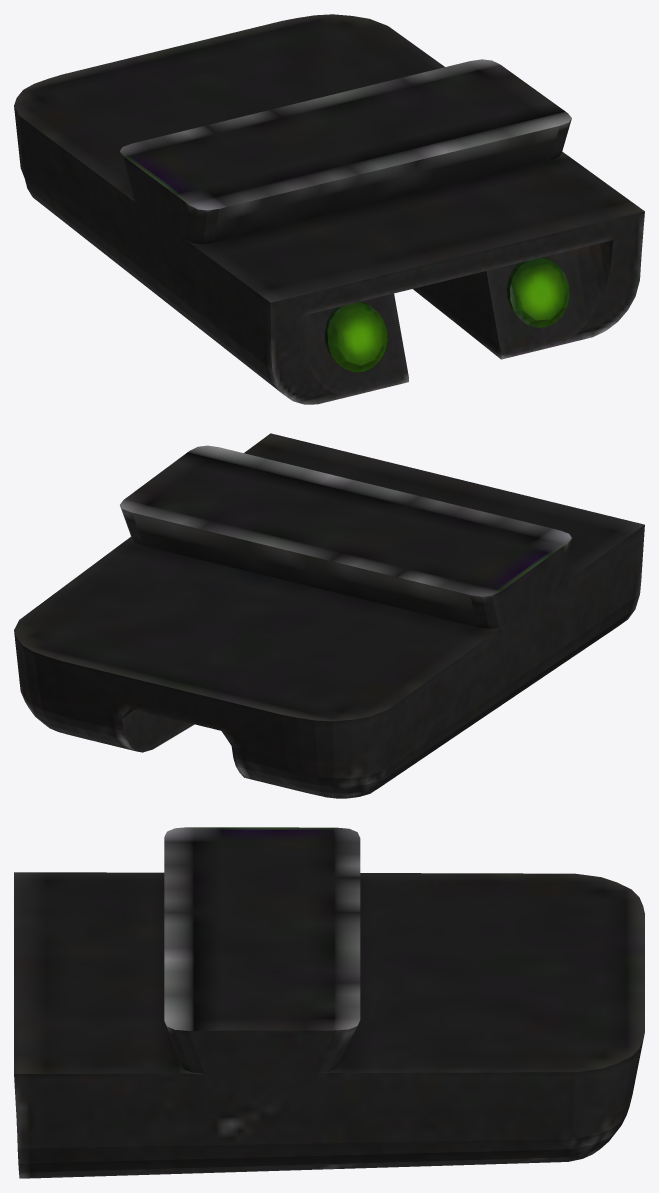
The picture shows the model from 3 angles, top to bottom: view 1: azimuth 30°, elevation 25°; view 2: azimuth 150°, elevation 25°; view 3: azimuth 270°, elevation 25°; orthographic projection. The views are drawn at different scales.
Parts seen in each view (by area): view 1: TW_5a7d912f159bd400165484f3_PZ_Import; view 2: TW_5a7d912f159bd400165484f3_PZ_Import; view 3: TW_5a7d912f159bd400165484f3_PZ_Import.
Part boxes in pixels (<box>): TW_5a7d912f159bd400165484f3_PZ_Import: <box>14,14,644,404</box>; TW_5a7d912f159bd400165484f3_PZ_Import: <box>14,433,644,798</box>; TW_5a7d912f159bd400165484f3_PZ_Import: <box>14,827,644,1178</box>.
Bounding box in the file's own units: 0.0101 × 0.0132 × 0.00396.
Materials: 1 (1 with a texture image).
